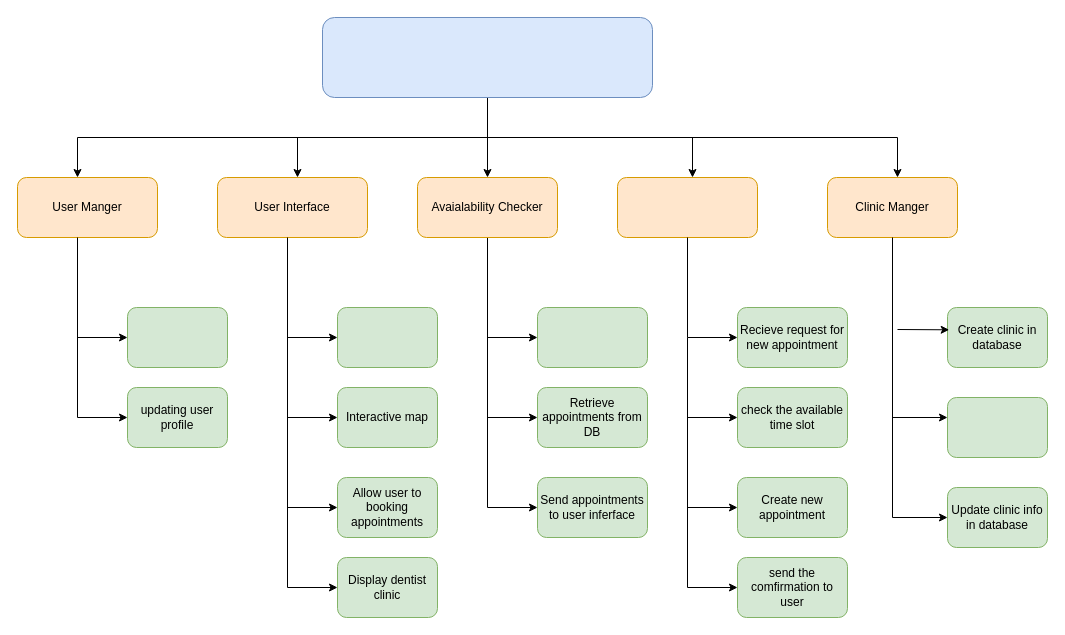
Some shapes in this 1065 by 635 pixel diagram are drawn without their labels. The box of each missing label's shape, as (x1, y1, x2, y2) in pixels:
Booking Manger: (616, 176, 758, 238)
Dentistimo: (322, 16, 652, 98)
Display TimeSlot: (336, 306, 438, 368)
publish dentist clinic in Gothenburg to UI: (946, 396, 1048, 458)
Receive request for current appointments: (536, 306, 648, 368)
Register user: (126, 306, 228, 368)
